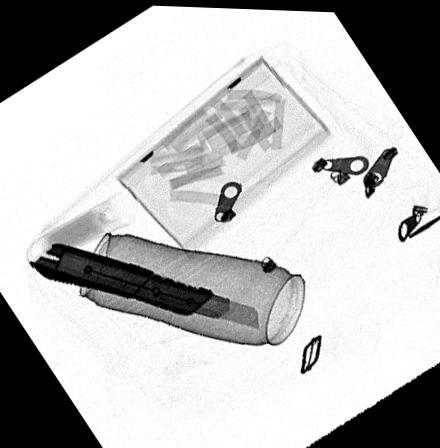Knife: (27, 242, 260, 327)
